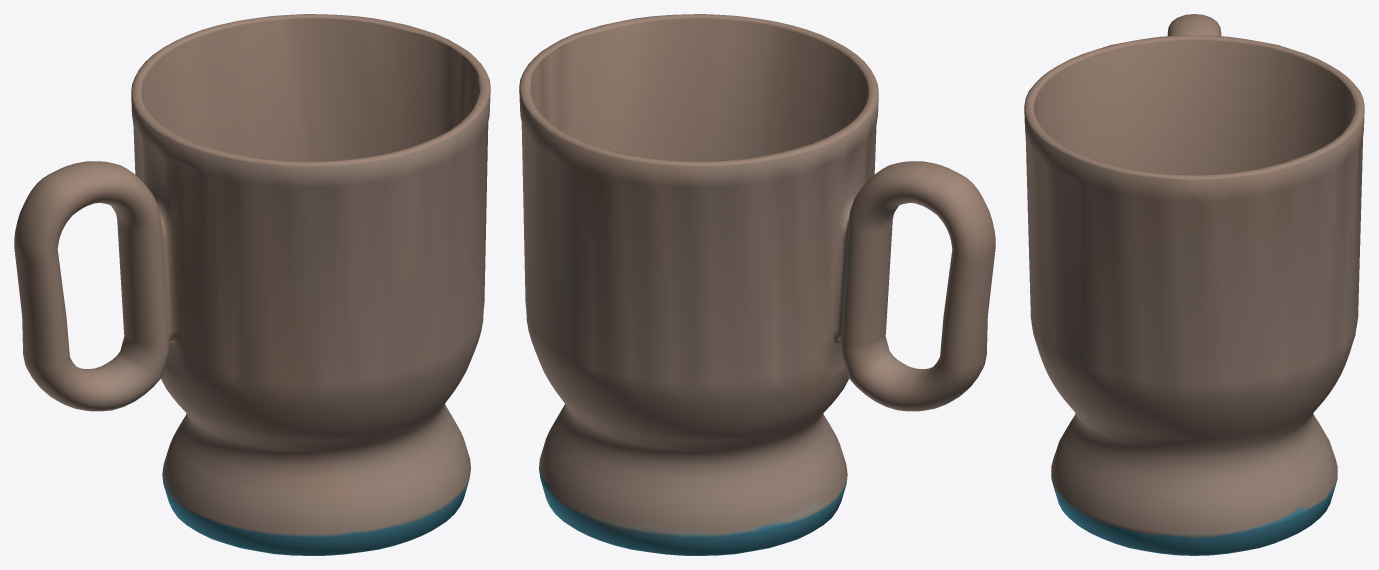
Rendered from mug.glb.
3 views of the same model, side by side, from view 1: azimuth 30°, elevation 25°; view 2: azimuth 150°, elevation 25°; view 3: azimuth 270°, elevation 25° (orthographic). The views are drawn at different scales.
Visible parts, largest first — view 1: mesh_rep_0_ori_repair_quad; view 2: mesh_rep_0_ori_repair_quad; view 3: mesh_rep_0_ori_repair_quad.
Boxes of the visible parts, <box> form: mesh_rep_0_ori_repair_quad: <box>14,14,490,555</box>; mesh_rep_0_ori_repair_quad: <box>519,14,995,555</box>; mesh_rep_0_ori_repair_quad: <box>1024,14,1364,555</box>.
Size of the model in its own units: 0.1175 by 0.1035 by 0.0815.
Materials: 1 (1 with a texture image).
